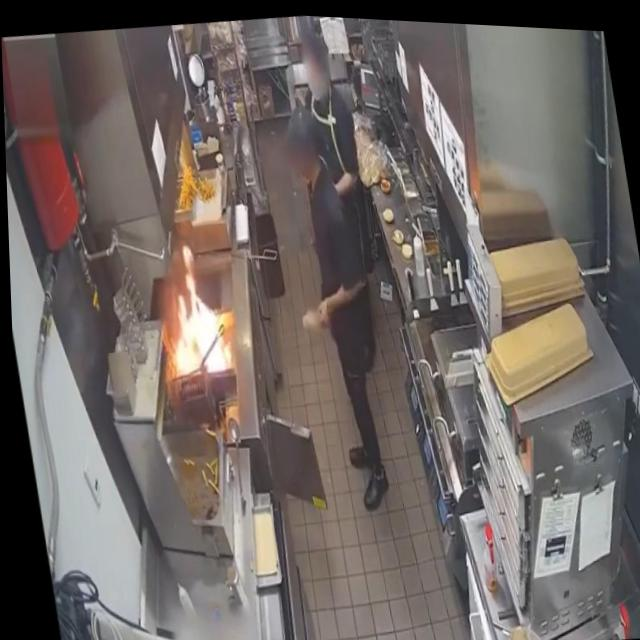fire: (148, 234, 232, 386)
